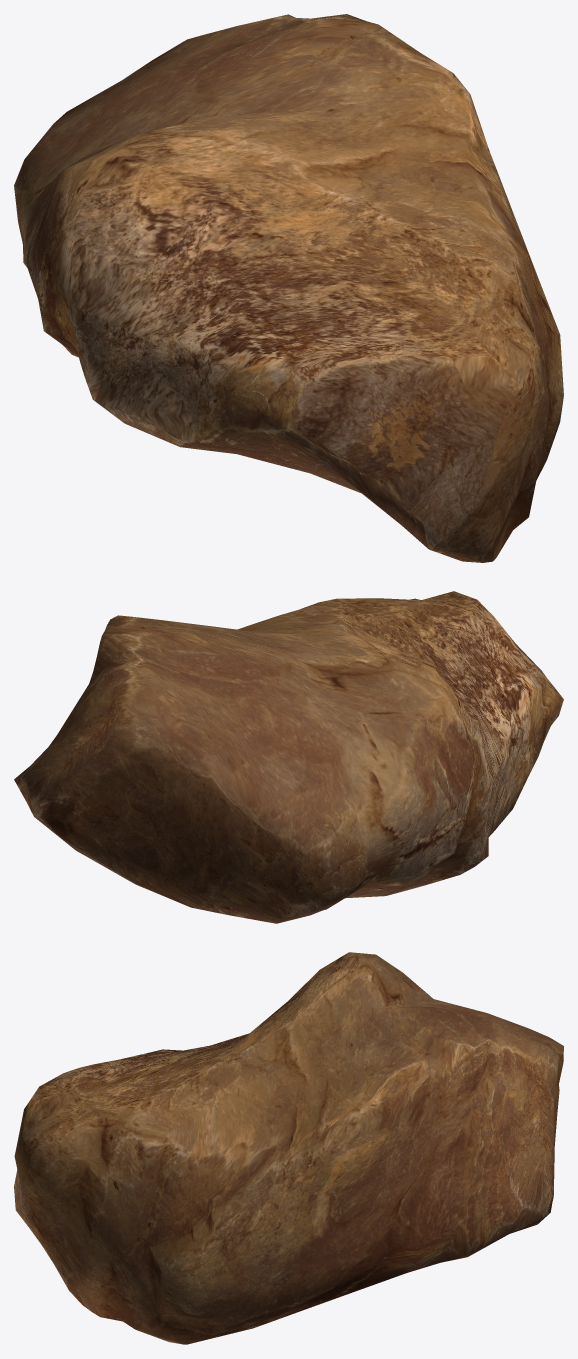
File: Rock_02.FBX
The picture shows the model from 3 angles, top to bottom: view 1: azimuth 30°, elevation 25°; view 2: azimuth 150°, elevation 25°; view 3: azimuth 270°, elevation 25°; orthographic projection. The views are drawn at different scales.
Parts seen in each view (by area): view 1: Rock_02; view 2: Rock_02; view 3: Rock_02.
Boxes of the visible parts, box(x1,y1,x2,y2) form: Rock_02: box(14, 14, 563, 562); Rock_02: box(14, 591, 563, 923); Rock_02: box(14, 952, 563, 1344).
Size of the model in its own units: 8.12 by 6.42 by 10.81.
1 material, 1 textured.
